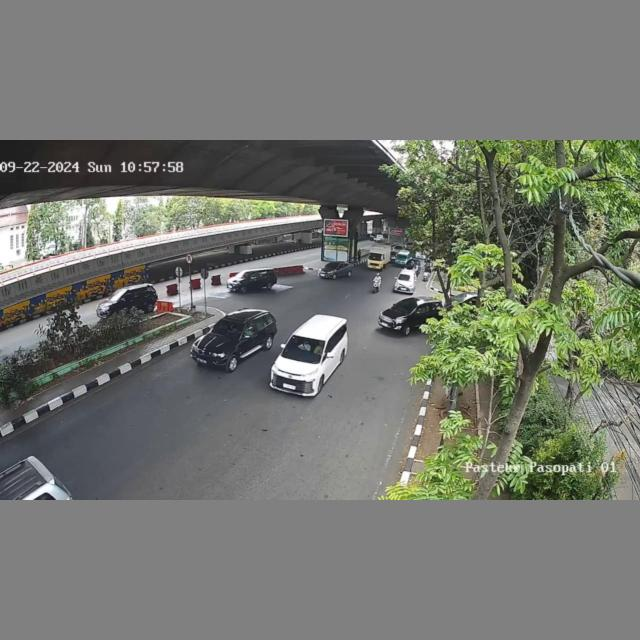windshield: (282, 336, 326, 362), (213, 319, 243, 338), (393, 300, 416, 312), (398, 273, 413, 281)
